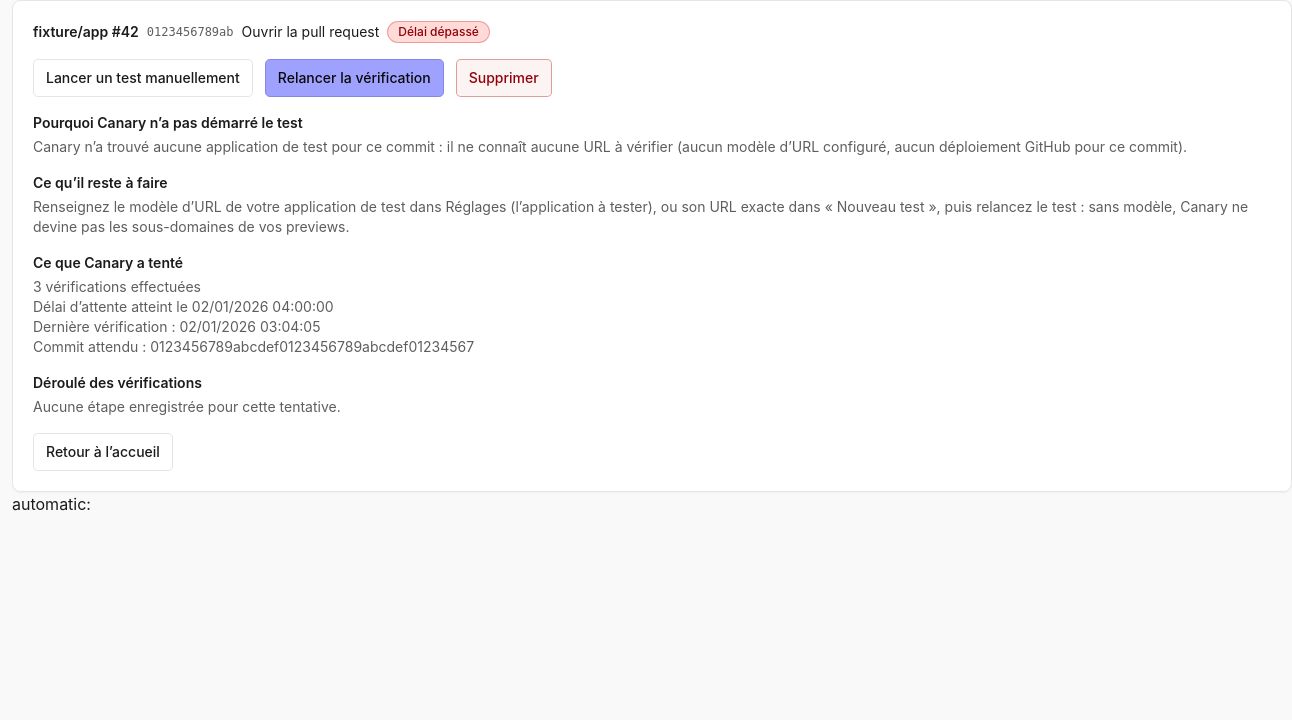
AutomaticDetailView › deletes the attempt and hands the screen back to the list it left
Click the button with id "automaticDetailDelete" at {"x": 504, "y": 78}, box left=456, top=59, right=552, bottom=97
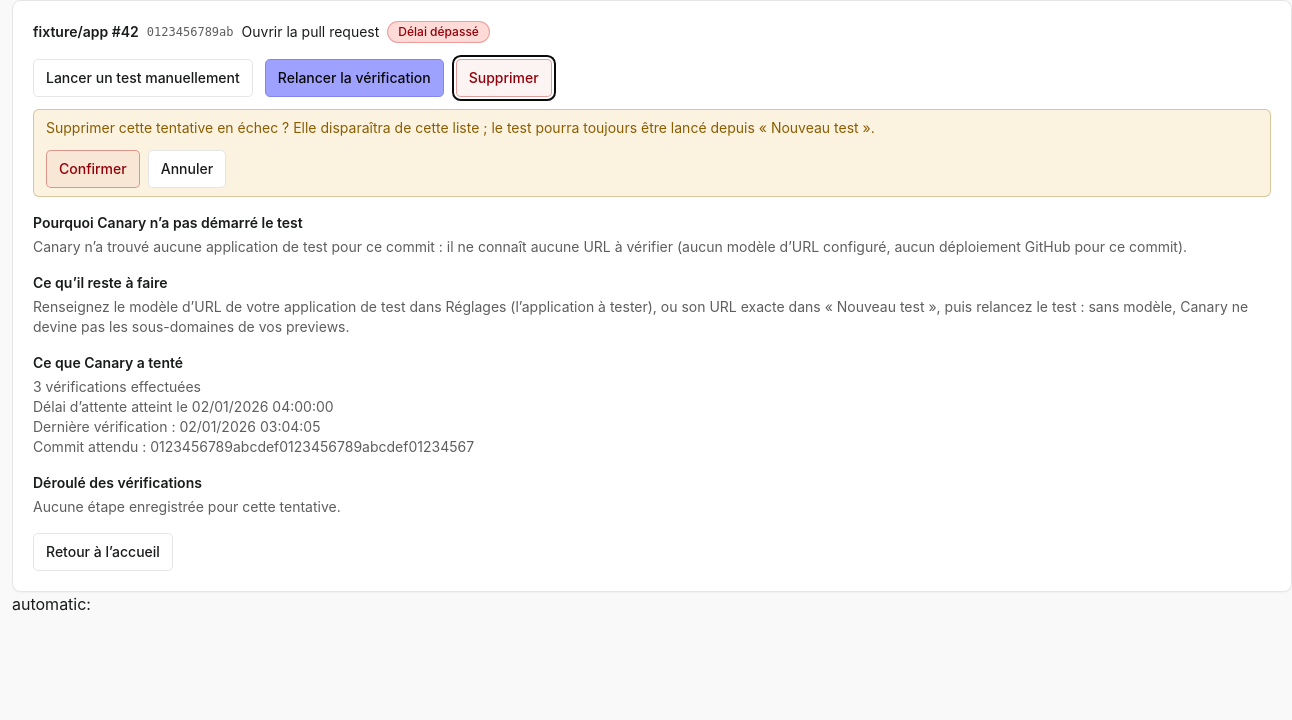
Click the button with id "automaticDetailDelete-confirm" at {"x": 93, "y": 169}, box left=46, top=150, right=140, bottom=188
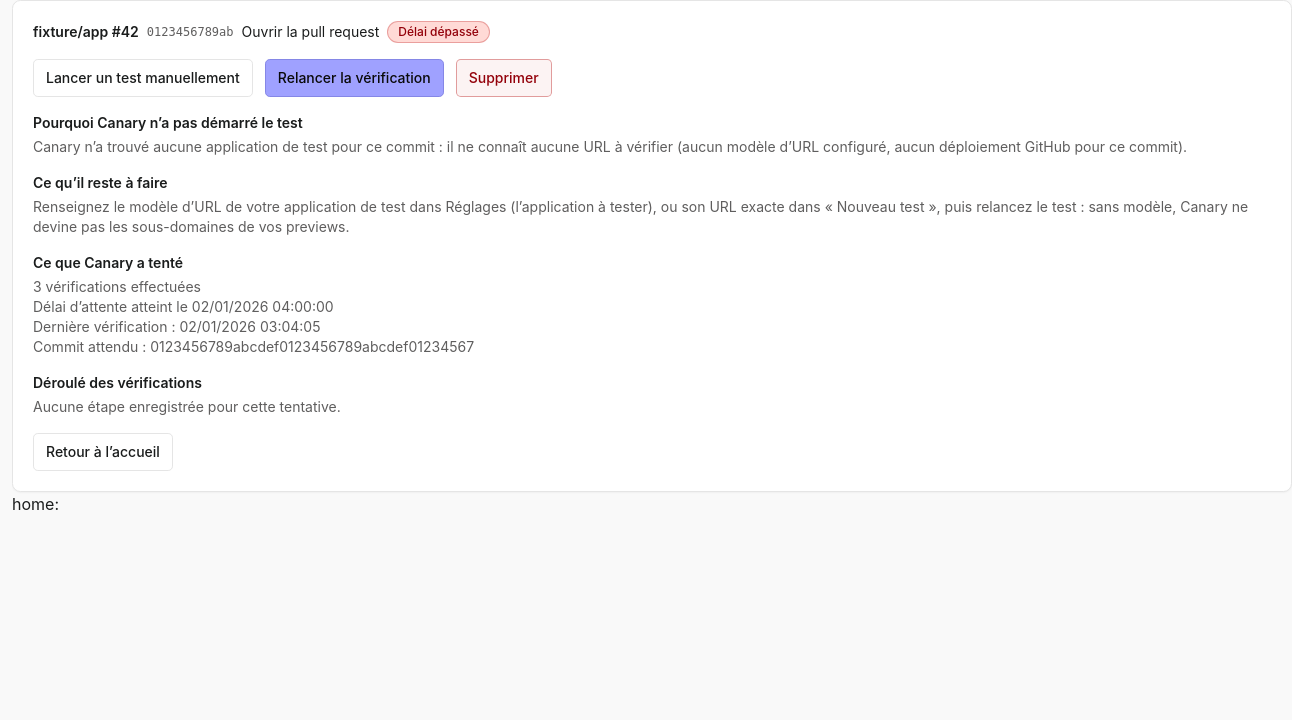
Check: the text with test id "route" reads "home:", box left=12, top=494, right=59, bottom=514
